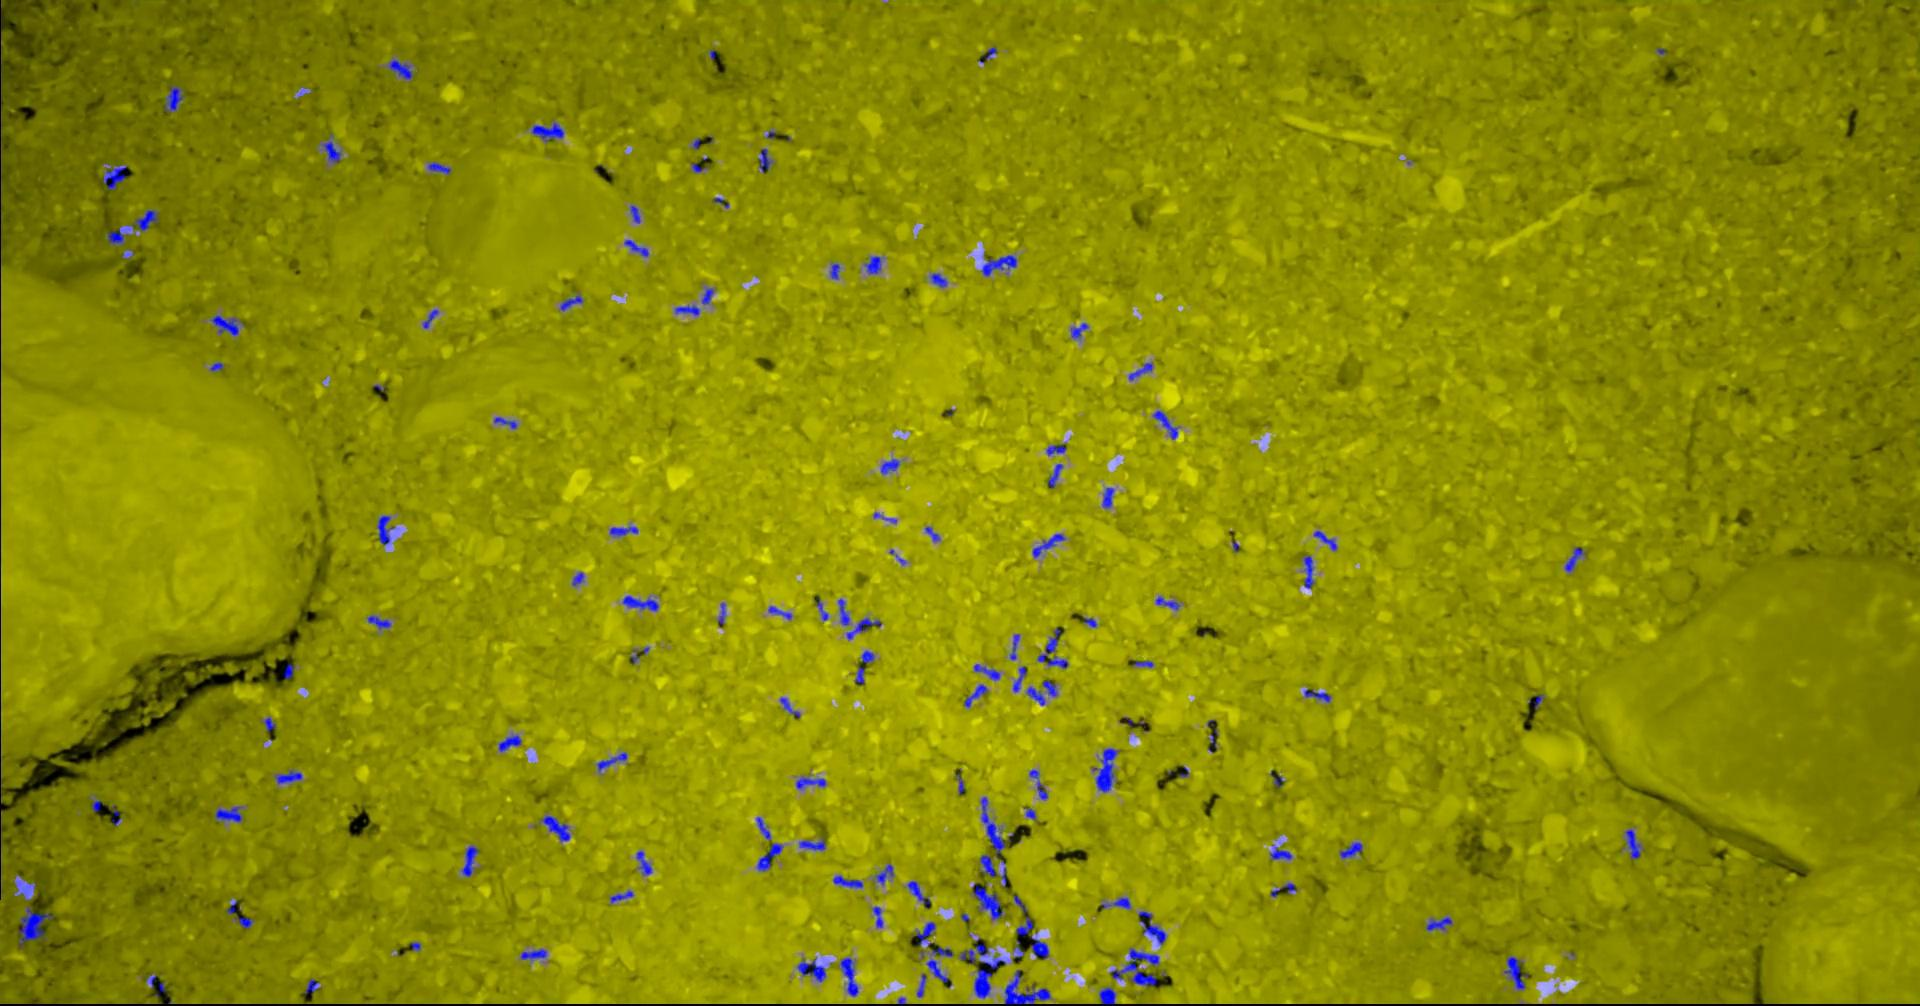ant: (1112, 948, 1161, 986), (1006, 969, 1051, 1005), (982, 796, 1007, 857), (20, 906, 55, 948), (975, 955, 1007, 998), (1039, 627, 1069, 668), (1095, 747, 1120, 793), (974, 884, 1004, 920), (1139, 909, 1167, 944), (1505, 955, 1531, 989), (1015, 894, 1035, 935), (983, 254, 1018, 276), (1034, 533, 1065, 558), (841, 956, 860, 996), (758, 843, 785, 871), (542, 815, 571, 841), (961, 937, 990, 963), (211, 314, 245, 335), (848, 617, 883, 639), (1154, 410, 1178, 439), (797, 958, 827, 981), (128, 210, 160, 230), (598, 751, 629, 771), (104, 164, 128, 189), (909, 880, 932, 907), (623, 594, 660, 611), (533, 122, 565, 141), (323, 133, 343, 163), (965, 683, 989, 708), (1030, 768, 1049, 799), (1566, 546, 1587, 572), (389, 58, 415, 79), (463, 845, 480, 876), (378, 514, 396, 544), (165, 85, 185, 111), (1625, 828, 1642, 859), (928, 959, 950, 982), (917, 921, 937, 945), (1316, 530, 1338, 550), (625, 239, 650, 257), (1130, 362, 1154, 380), (216, 807, 244, 822), (975, 663, 1001, 680), (876, 862, 895, 884), (147, 974, 166, 996), (561, 293, 584, 311), (1032, 935, 1050, 958), (781, 697, 801, 716), (1341, 841, 1364, 857), (1305, 688, 1332, 702), (834, 875, 863, 888), (637, 850, 653, 874), (1015, 666, 1029, 691), (1427, 916, 1453, 930), (1049, 464, 1064, 486), (500, 735, 523, 751), (982, 854, 997, 876), (108, 225, 126, 244), (1029, 686, 1046, 705), (277, 770, 303, 782), (1100, 986, 1117, 1005), (758, 815, 772, 840), (1305, 555, 1316, 588), (1209, 719, 1219, 752), (797, 776, 827, 788), (1102, 897, 1131, 908), (759, 149, 773, 171), (770, 605, 792, 619), (370, 615, 392, 629), (980, 46, 998, 64), (1157, 596, 1181, 608), (817, 596, 829, 620), (611, 890, 635, 903), (839, 598, 851, 625), (800, 838, 827, 850), (522, 948, 549, 959), (866, 255, 883, 273), (429, 161, 452, 174), (676, 304, 701, 315), (424, 309, 439, 328), (17, 882, 32, 901), (611, 526, 639, 536), (1271, 846, 1293, 859), (1072, 323, 1090, 338), (883, 459, 902, 473), (495, 417, 518, 428), (1011, 634, 1021, 659), (1043, 680, 1058, 696), (1103, 486, 1115, 508), (918, 973, 928, 997), (926, 526, 941, 541), (932, 273, 949, 287), (306, 978, 320, 995), (719, 602, 728, 627), (236, 916, 254, 929), (874, 906, 884, 927), (933, 946, 955, 956), (703, 287, 716, 304), (1, 70, 3, 229), (631, 205, 641, 224), (1048, 445, 1067, 455), (113, 804, 122, 826), (856, 666, 866, 683), (284, 663, 296, 678), (830, 263, 841, 279), (574, 572, 585, 586), (265, 716, 277, 730), (863, 650, 876, 662), (1135, 661, 1156, 667)
